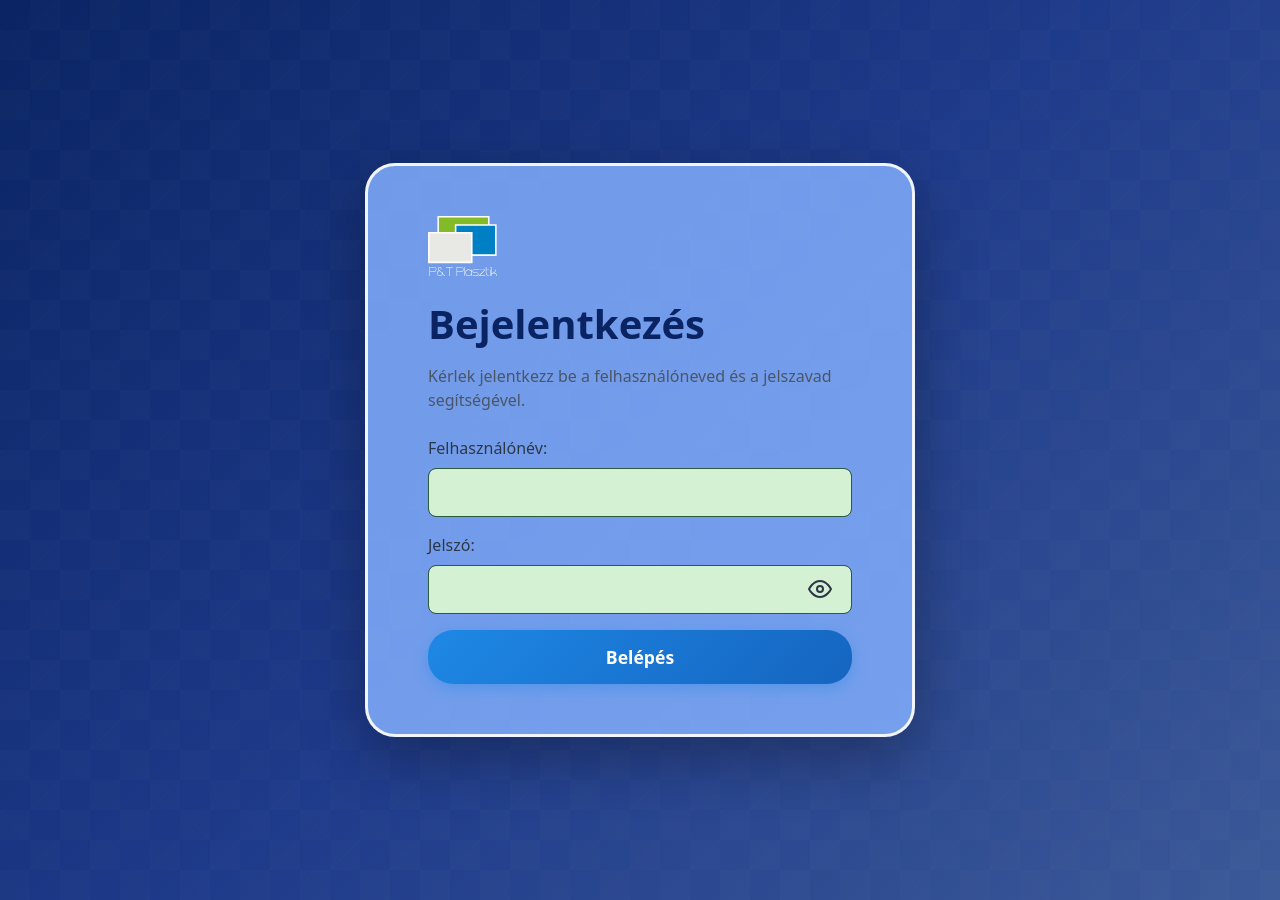
Scenario: Login Component › Form Submission › should handle network errors
The width and height of the screenshot is (1280, 900).
Type "testuser" into the field labelled "Felhasználónév:" at coordinates (640, 492), box [428,468,852,517]
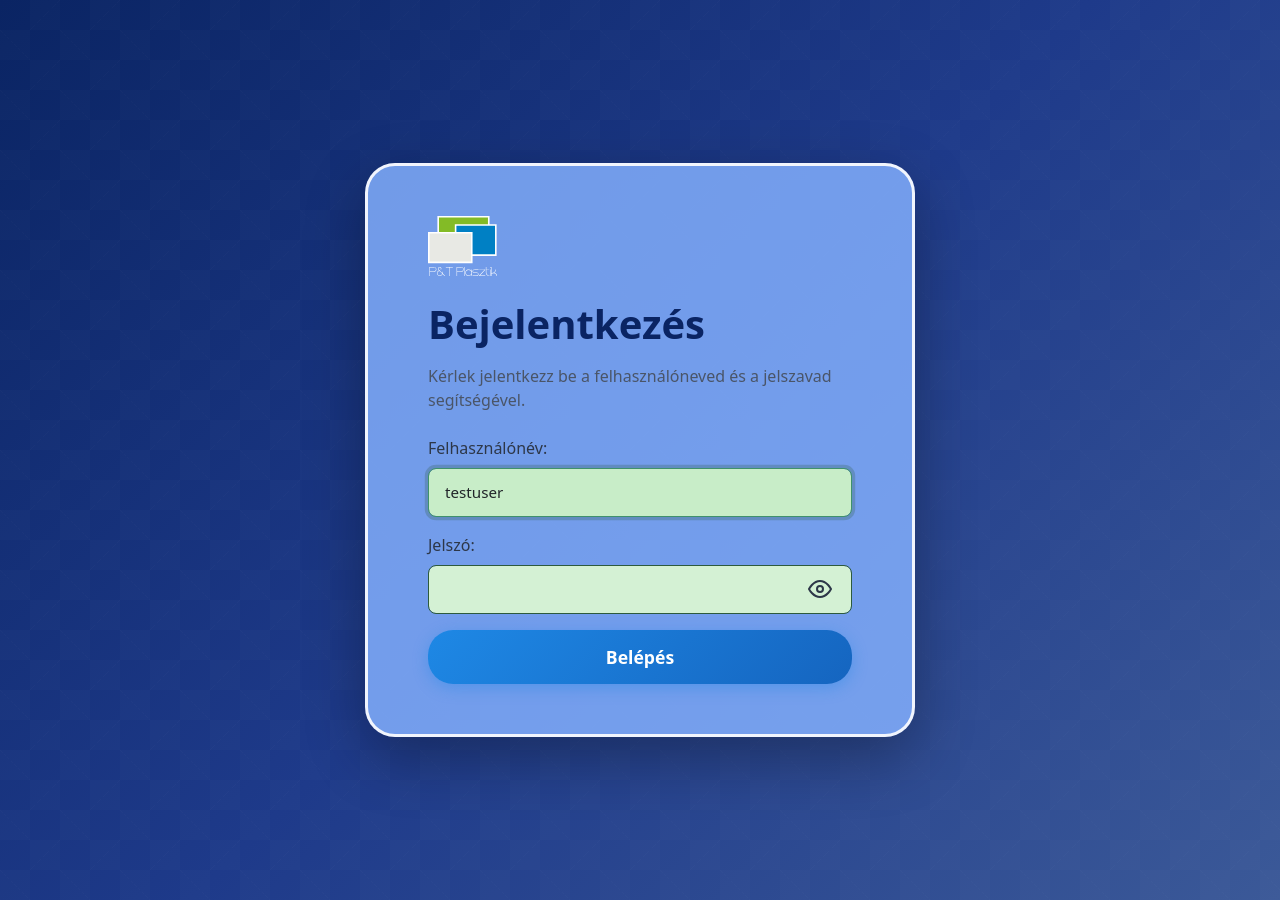
Type "Password123" into the password field labelled "Jelszó:" at coordinates (640, 589), box [428,565,852,614]
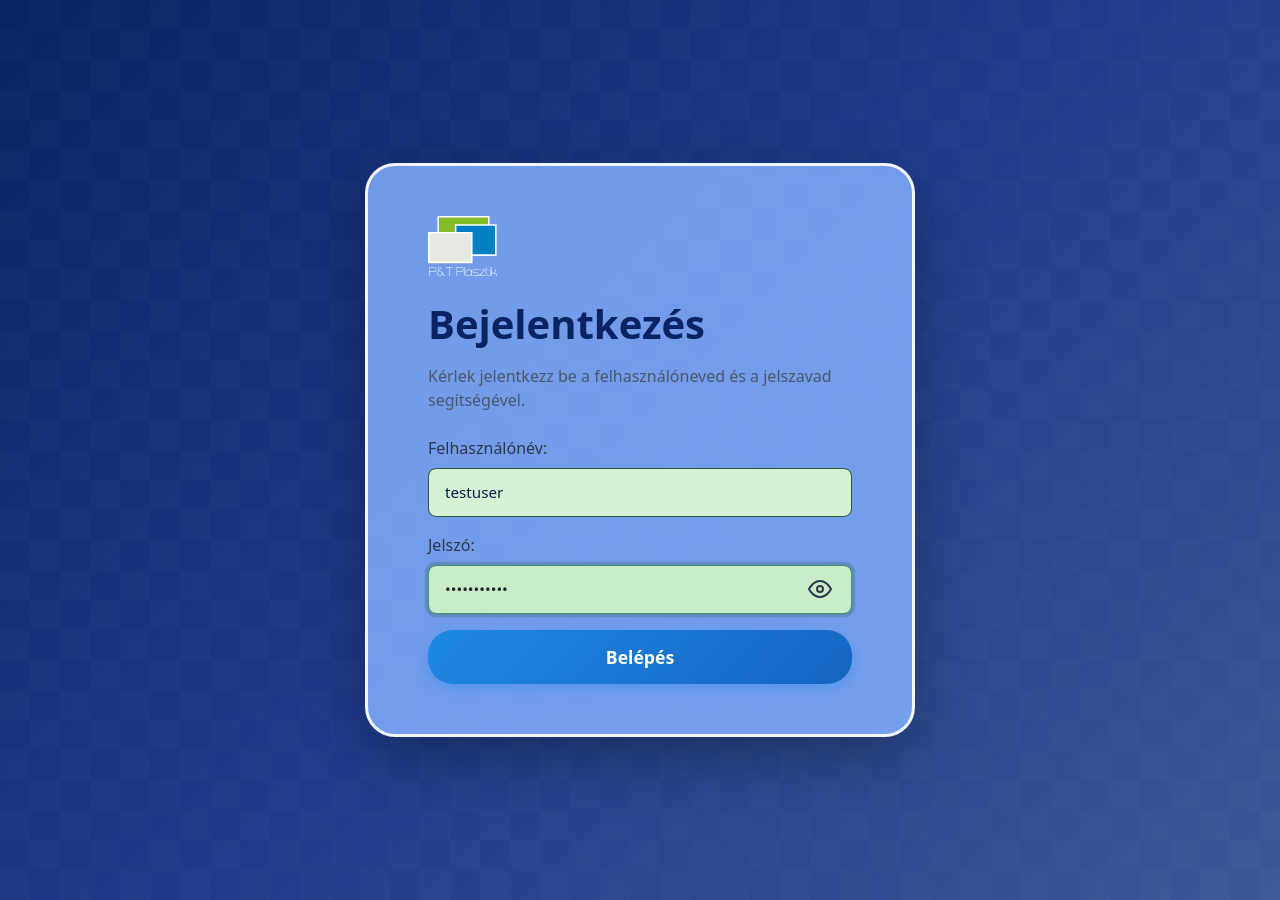
Click the button "Belépés" at coordinates (640, 657), box [428,630,852,684]
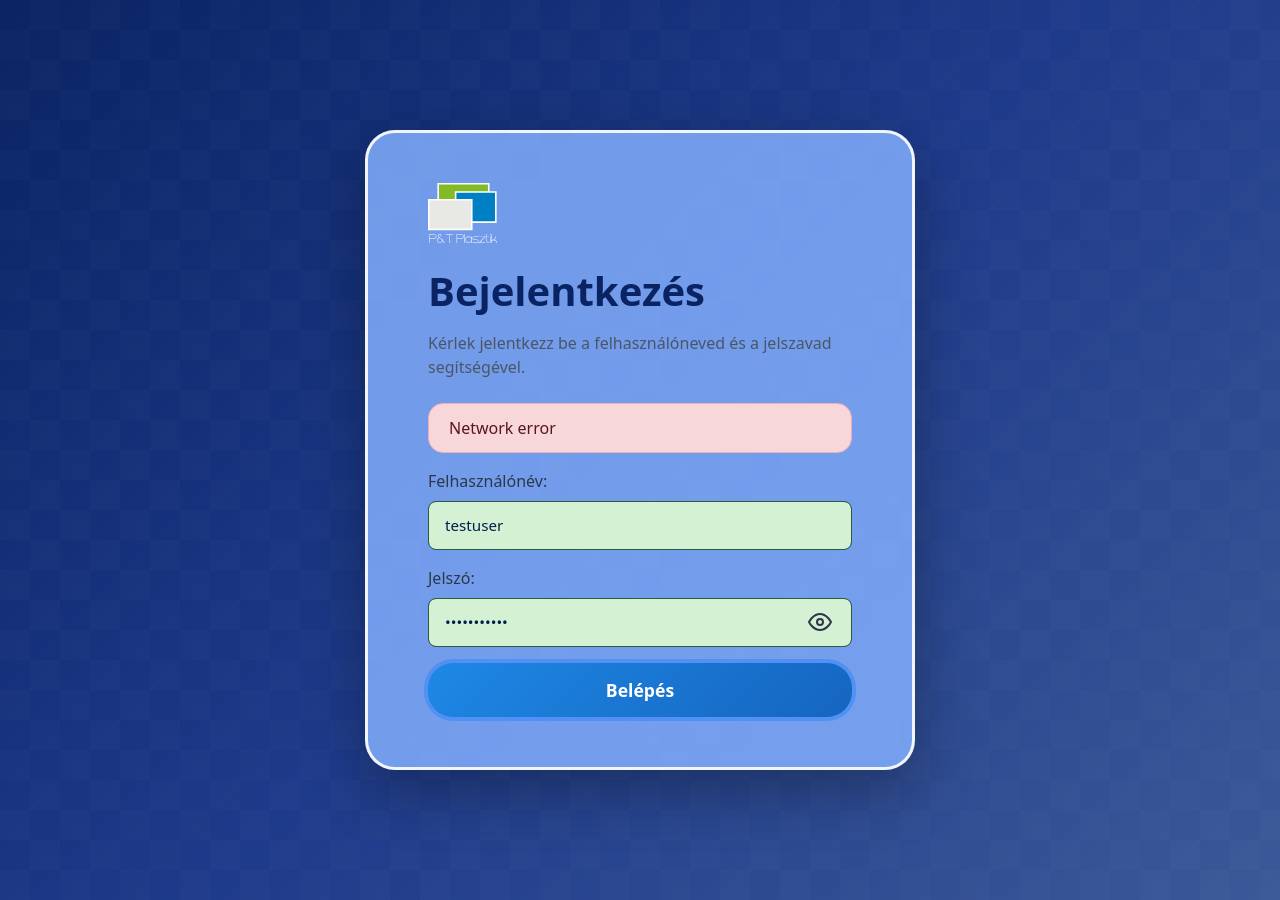
Now the text "Network error" is shown, box [428,403,852,453]
